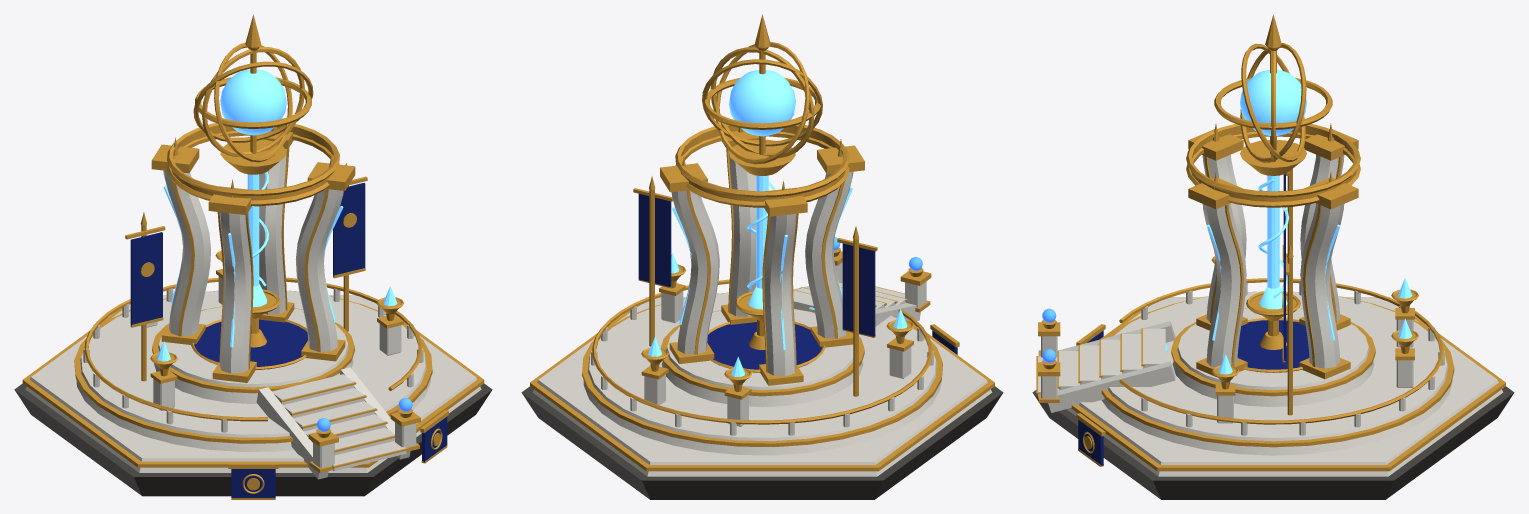
Rendered from zeus_tutor_structure_1.glb.
3 renders of one model, left to right at view 1: azimuth 30°, elevation 25°; view 2: azimuth 150°, elevation 25°; view 3: azimuth 270°, elevation 25°, orthographic.
Parts seen in each view (by area): view 1: zeus_tutor_structure_1; view 2: zeus_tutor_structure_1; view 3: zeus_tutor_structure_1.
Part boxes in pixels (left/top/right/bottom): zeus_tutor_structure_1: left=14, top=14, right=492, bottom=499; zeus_tutor_structure_1: left=521, top=14, right=1003, bottom=499; zeus_tutor_structure_1: left=1032, top=14, right=1514, bottom=499.
Bounding box in the file's own units: 1.49 × 1.59 × 1.72.
1 material, 1 textured.
